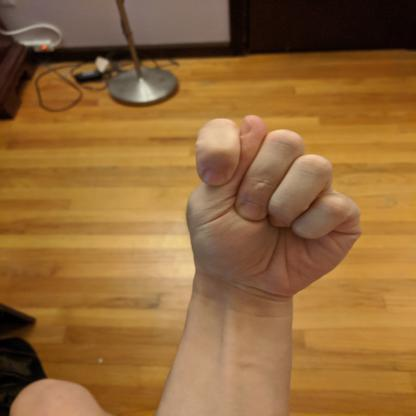T: (180, 113, 366, 301)
